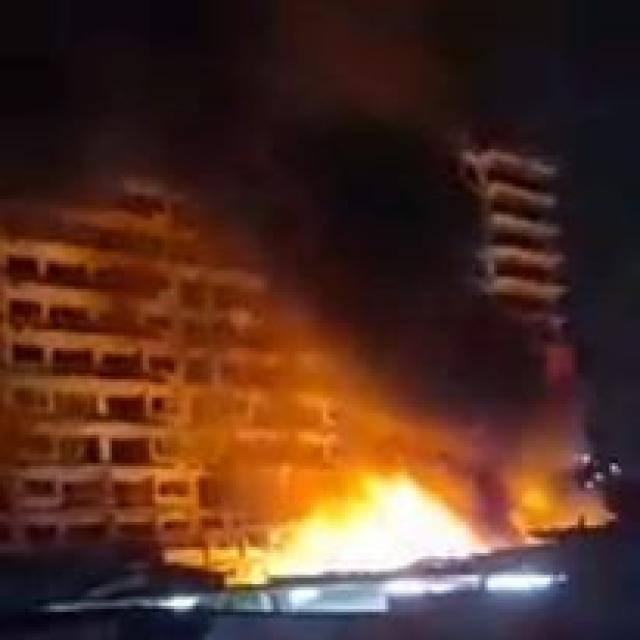Fire: (237, 458, 499, 568)
